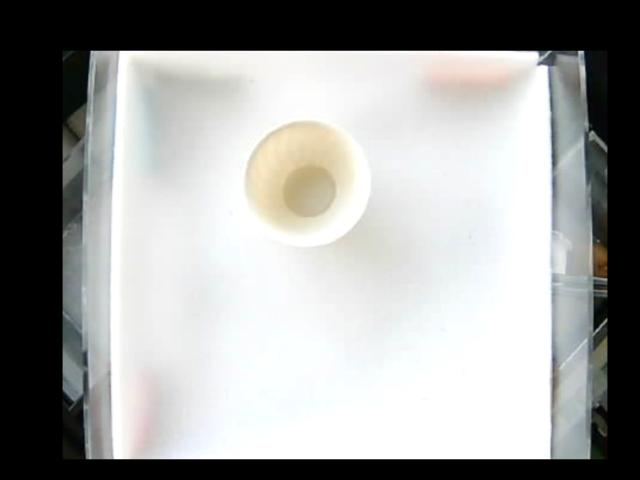Cup: (243, 117, 369, 243)
